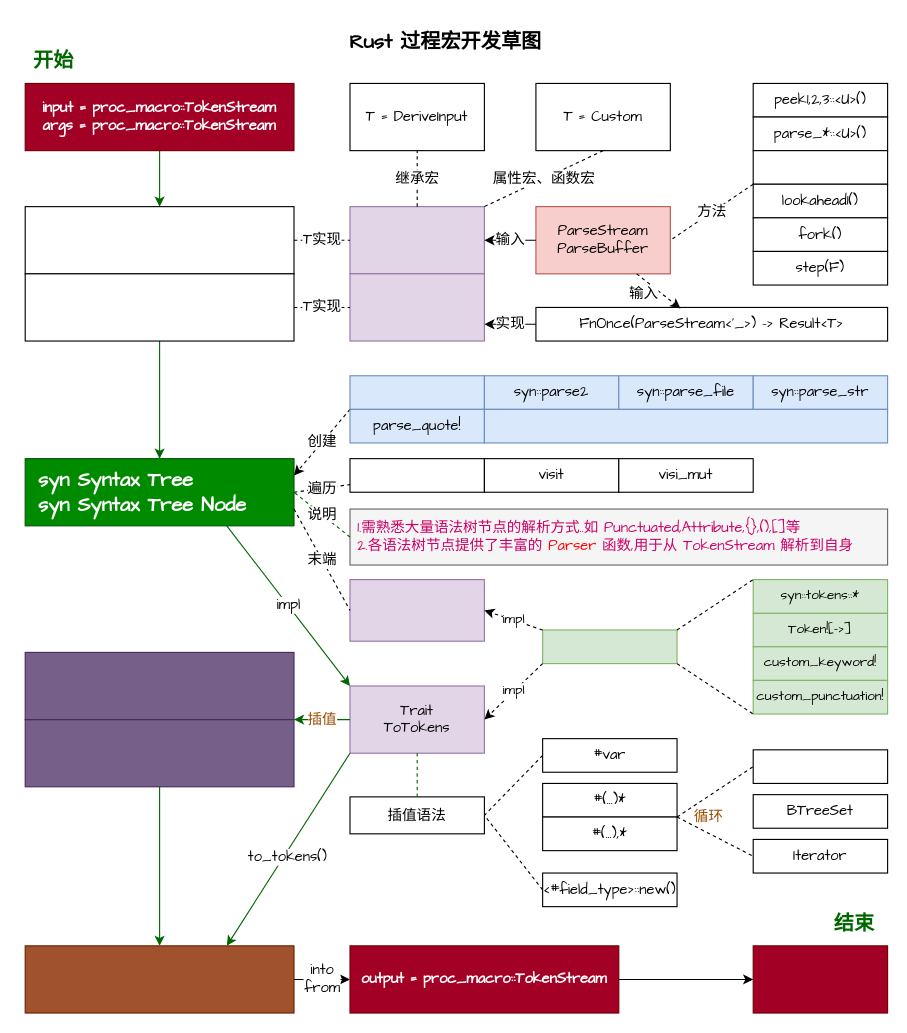
The diagram is 907 pixels wide and 1033 high, and some of its shapes have lost their labels. Each missing label, with the centre of its shape:
call( Parser ): the point at 820,167
fold: the point at 416,475
parse_quote_spaned!: the point at 685,425
proc_macro2::TokenStream Vec<TokenTree>: the point at 159,979
quote::quote!(...): the point at 159,752
quote::quote_spanned!(...): the point at 159,685
Rust AST: the point at 820,979
syn::parse: the point at 416,392
Trait Parse: the point at 416,240
Trait Parser: the point at 416,307
Trait Token: the point at 416,609
Vec: the point at 820,766
基本符号: the point at 609,646
解析 syn::parse_macro_input(input as T): the point at 159,240
解析 syn::parse_macro_input(input with T): the point at 159,307
